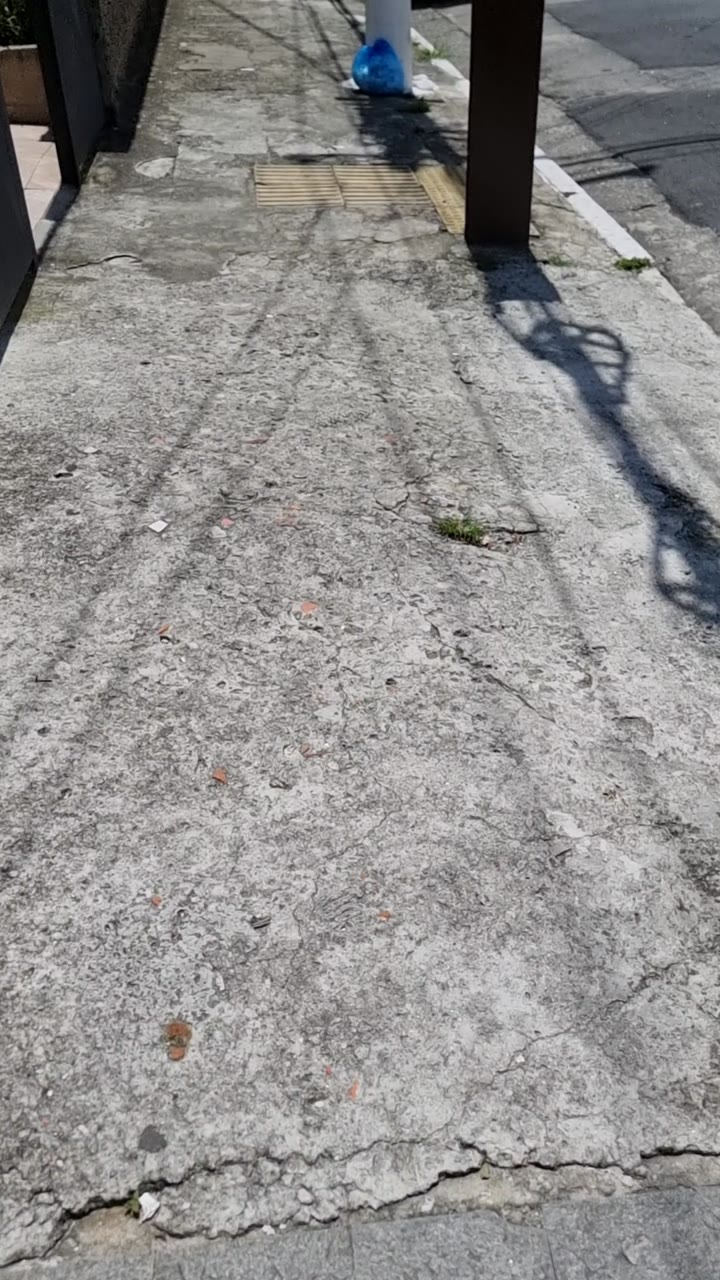desnivel: (36, 1139, 720, 1242)
obstaculo: (468, 0, 526, 320), (360, 26, 410, 90)
